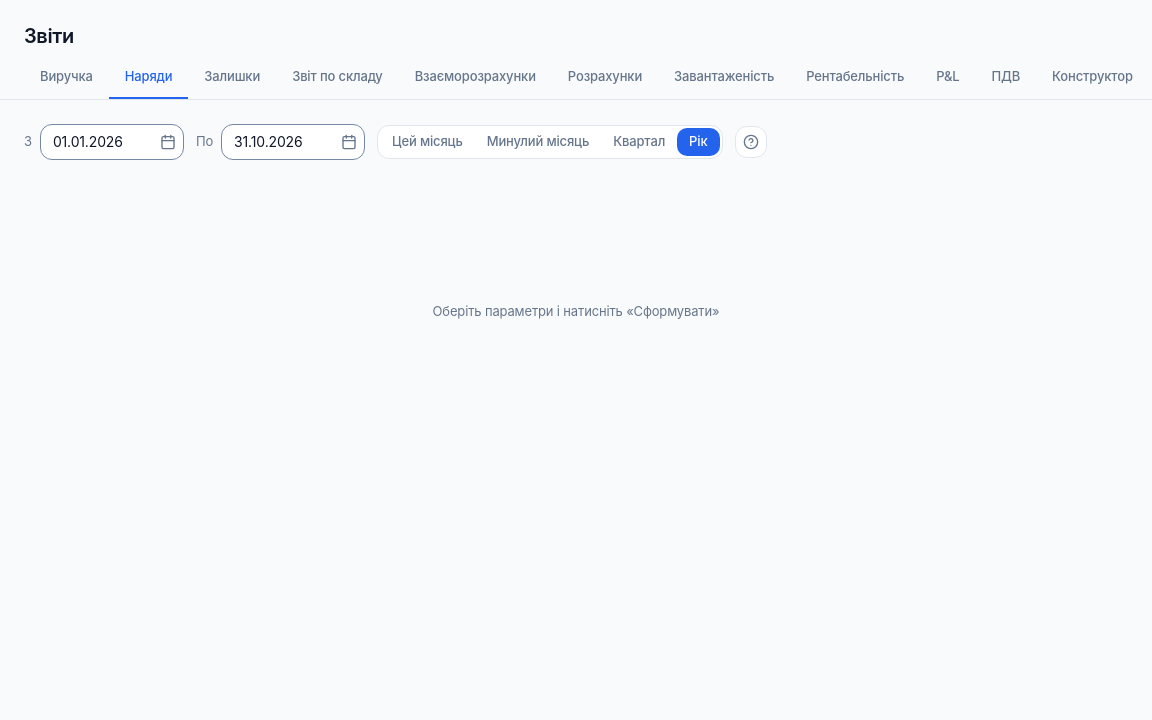
Звіти — «?» за вкладкою › work-orders: «?» пояснює саме цей звіт
Click the button named "Як рахується звіт «Наряди»" at (750, 142), box [734, 126, 766, 158]
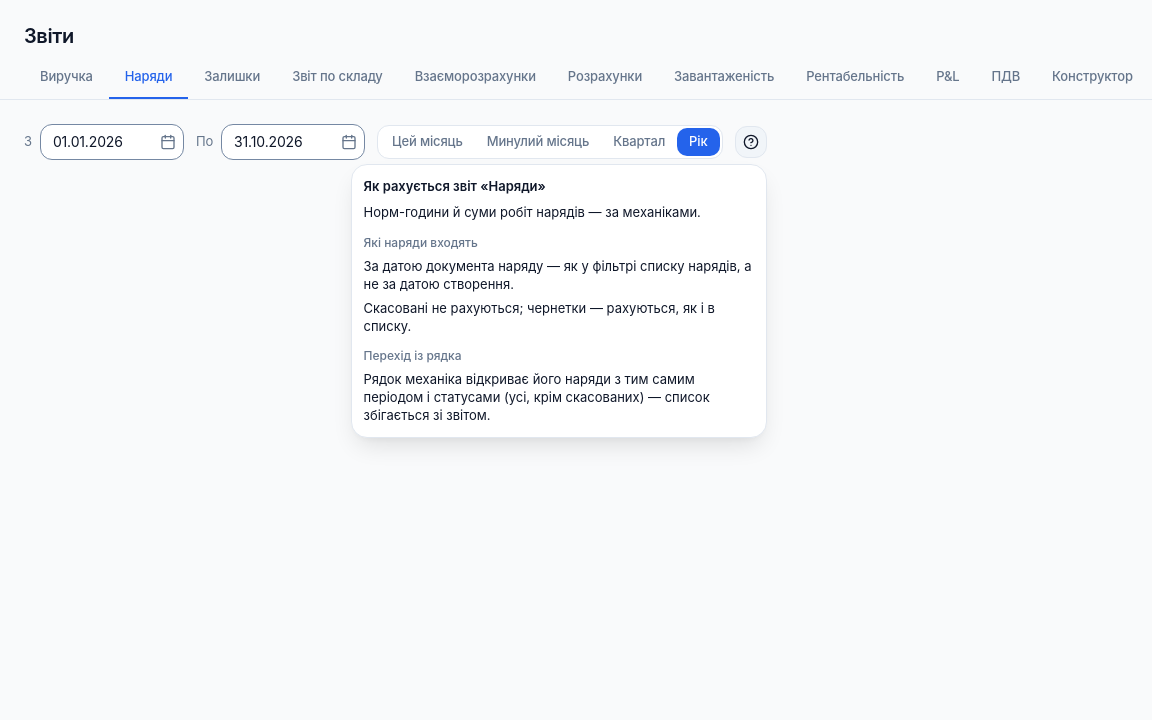
Now the dialog shows "Скасовані не рахуються", box [364, 300, 715, 334]
